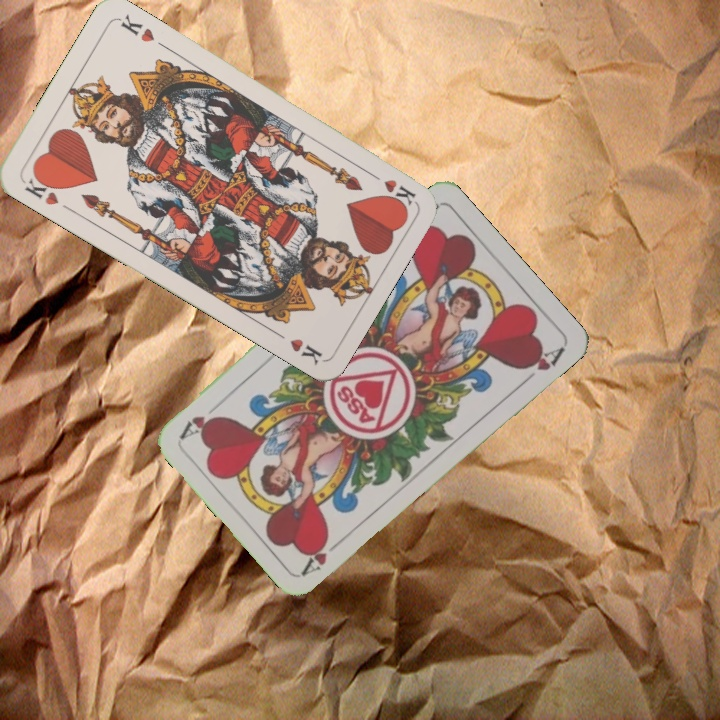HA: (298, 533, 348, 577)
HK: (363, 167, 419, 208), (20, 169, 63, 208)
